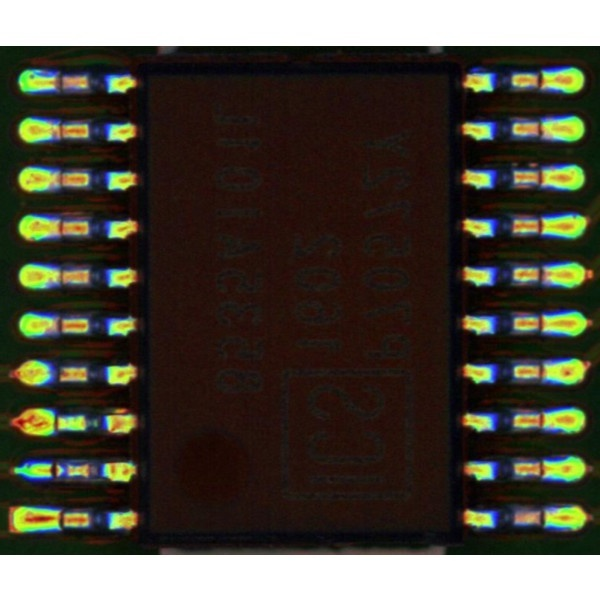Bad_podu: (524, 318, 559, 330), (34, 515, 76, 525), (38, 224, 75, 234), (38, 78, 74, 88), (526, 269, 557, 280), (31, 466, 68, 475), (526, 75, 554, 86), (527, 464, 558, 473)
